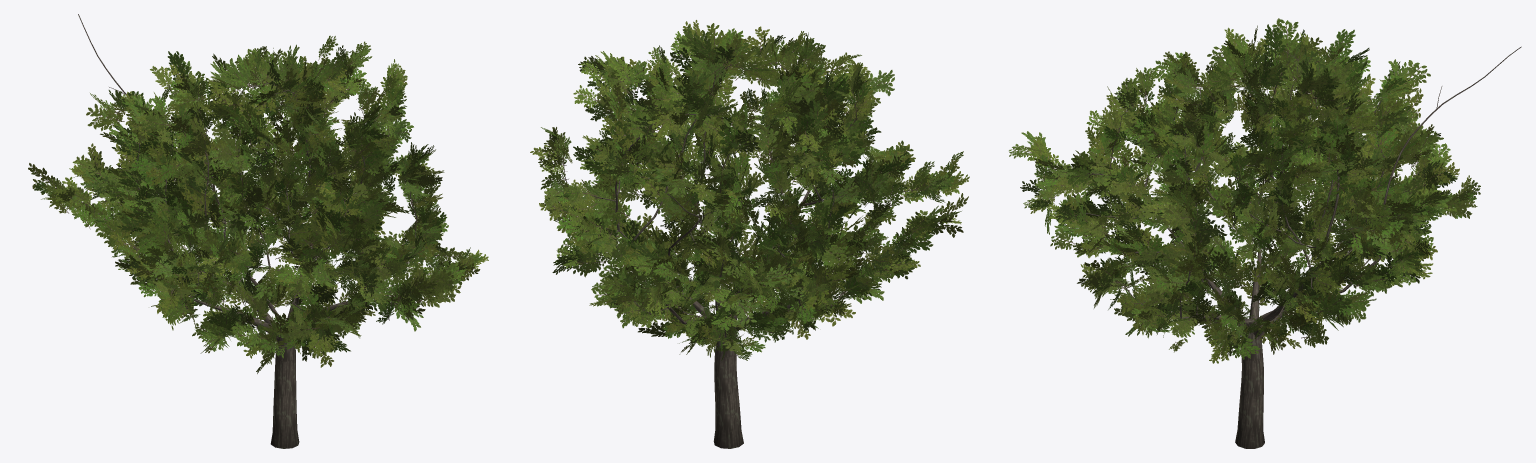
Rendered from dub_stredni.glb.
3 views of the same model, side by side, from view 1: azimuth 30°, elevation 25°; view 2: azimuth 150°, elevation 25°; view 3: azimuth 270°, elevation 25° (orthographic). The views are drawn at different scales.
Parts seen in each view (by area): view 1: dub_stredni; view 2: dub_stredni; view 3: dub_stredni.
Part boxes in pixels (x1,y1,x2,y2): dub_stredni: [28, 14, 488, 448]; dub_stredni: [530, 20, 969, 448]; dub_stredni: [1009, 18, 1521, 448].
Bounding box in the file's own units: 13.04 × 13.89 × 16.05.
2 materials, 2 textured.
